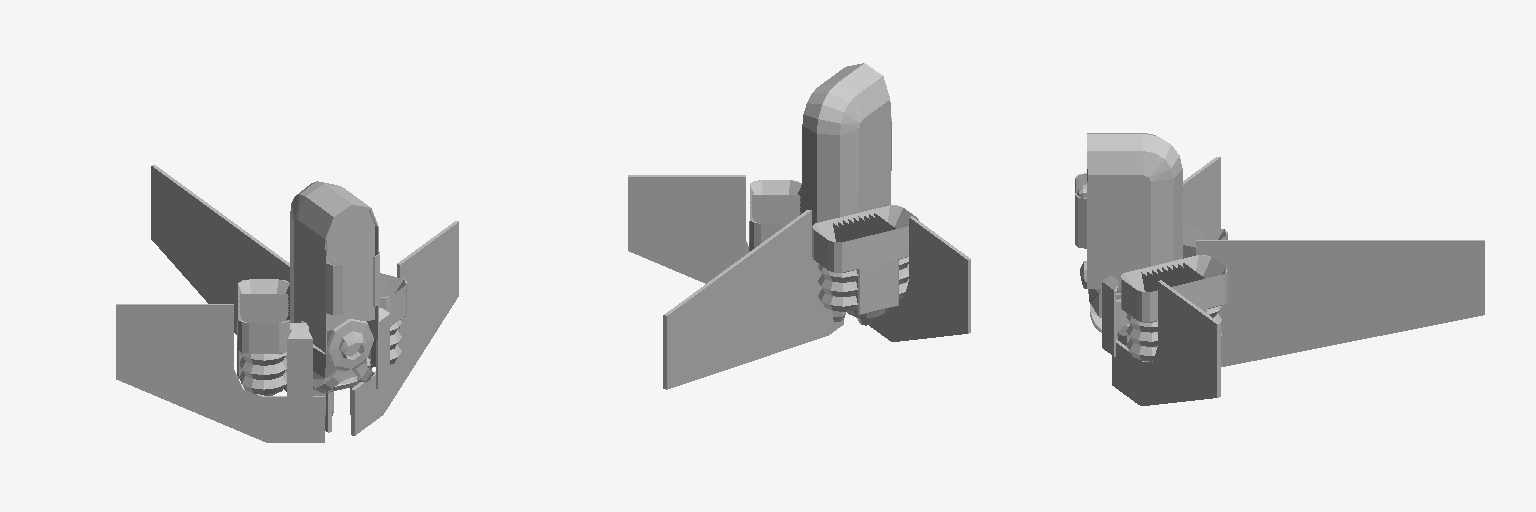
Rendered from ship.obj.
3 renders of one model, left to right at view 1: azimuth 30°, elevation 25°; view 2: azimuth 150°, elevation 25°; view 3: azimuth 270°, elevation 25°, orthographic.
Visible parts, largest first — view 1: scifi_plane; view 2: scifi_plane; view 3: scifi_plane.
Part boxes in pixels (bbox=[...]): scifi_plane: bbox=[116, 165, 458, 442]; scifi_plane: bbox=[628, 63, 970, 389]; scifi_plane: bbox=[1075, 133, 1484, 405].
Bounding box in the file's own units: 7.25 × 4.93 × 7.51.